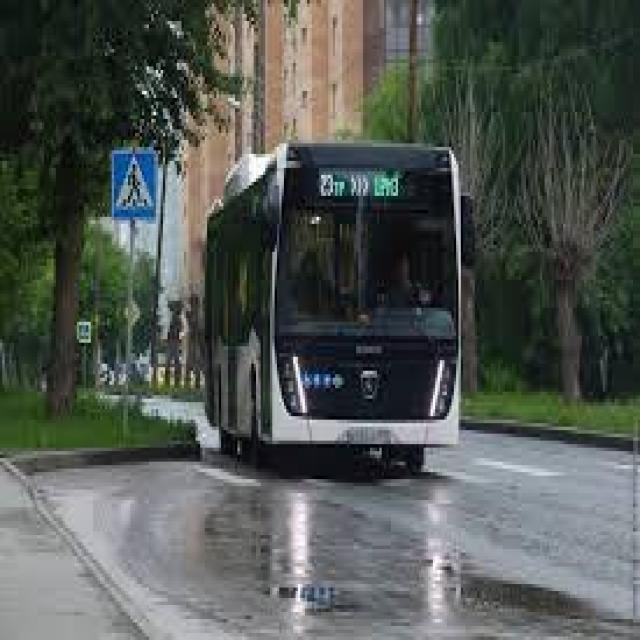Bus: (195, 130, 475, 482)
